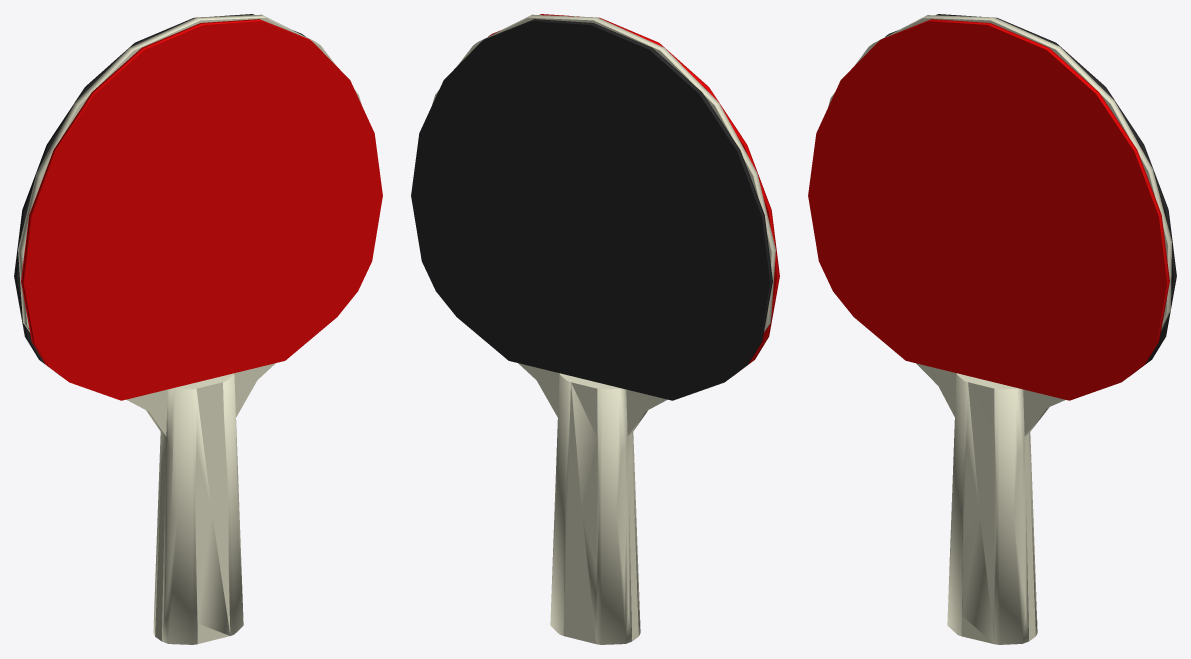
File: racket.dae
3 renders of one model, left to right at view 1: azimuth 30°, elevation 25°; view 2: azimuth 150°, elevation 25°; view 3: azimuth 330°, elevation 25°, orthographic.
Visible parts, largest first — view 1: racket.001; view 2: racket.001; view 3: racket.001.
Boxes of the visible parts, x1,y1,x2,y2 form: racket.001: (14,14,382,644); racket.001: (411,14,779,644); racket.001: (808,14,1176,644).
Size of the model in its own units: 0.1491 by 0.0217 by 0.2422.
